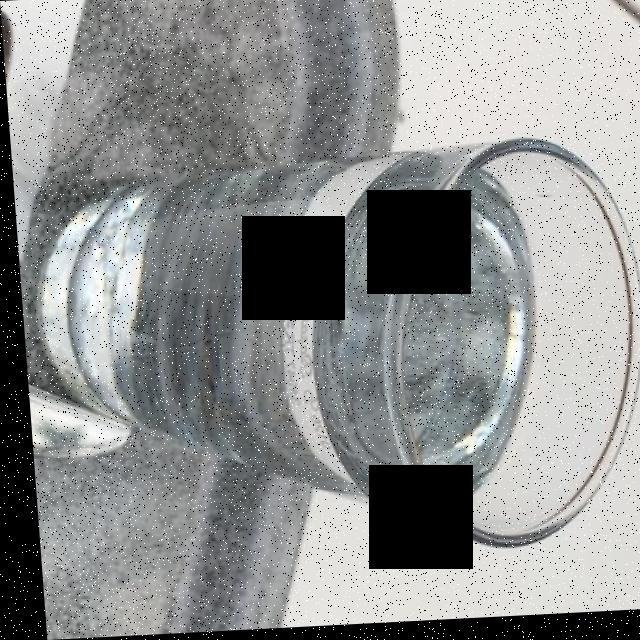water: (42, 173, 515, 508)
